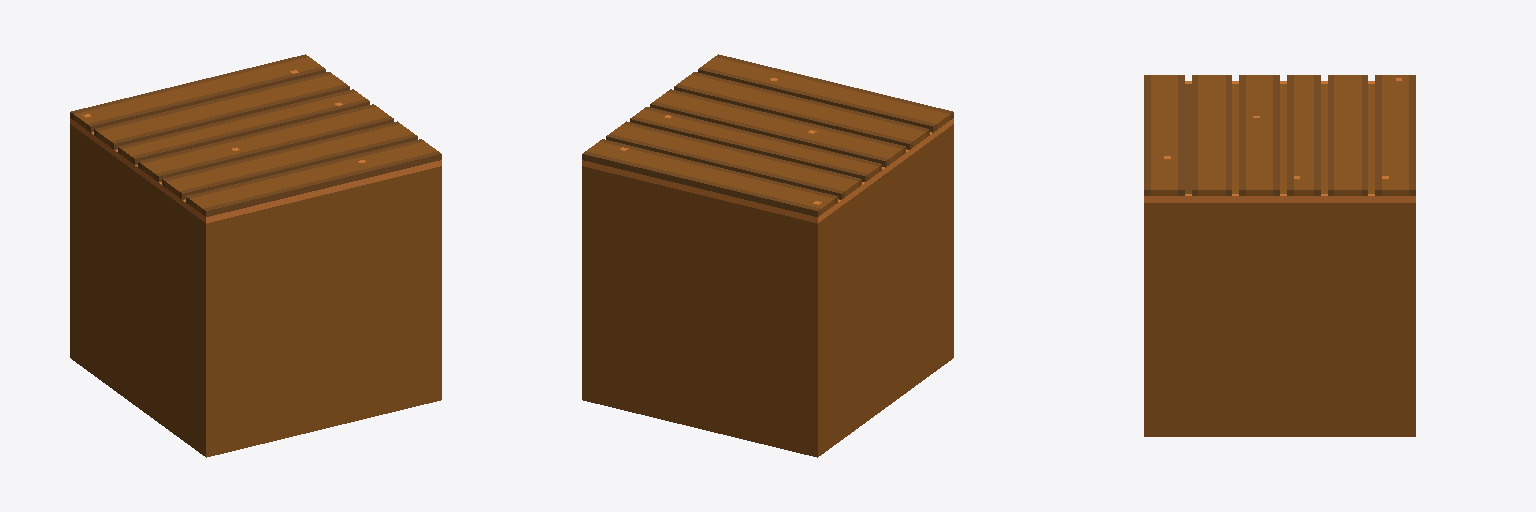
3 views of the same model, side by side, from view 1: azimuth 30°, elevation 25°; view 2: azimuth 150°, elevation 25°; view 3: azimuth 270°, elevation 25° (orthographic).
Parts seen in each view (by area): view 1: floor_1; view 2: floor_1; view 3: floor_1.
Part boxes in pixels (left/top/right/bottom): floor_1: left=70, top=54, right=441, bottom=457; floor_1: left=582, top=54, right=953, bottom=457; floor_1: left=1144, top=75, right=1415, bottom=436.
Size of the model in its own units: 40 by 40 by 40.
1 materials, 1 textured.